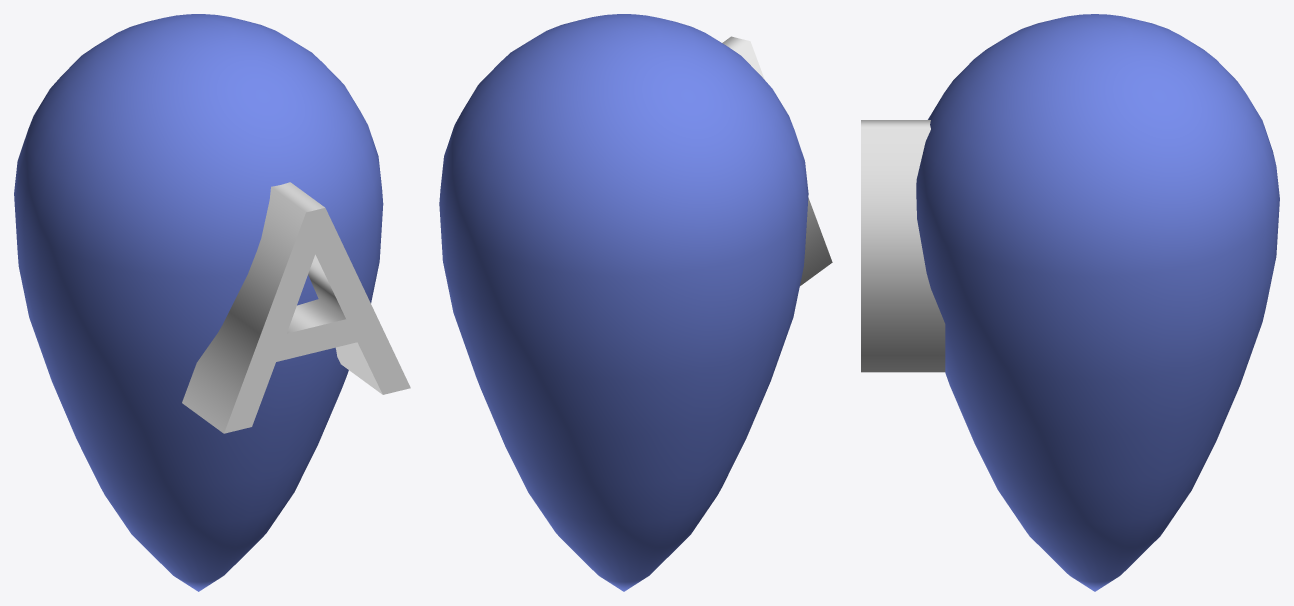
File: aEntrancePin.glb
3 views of the same model, side by side, from view 1: azimuth 30°, elevation 25°; view 2: azimuth 150°, elevation 25°; view 3: azimuth 270°, elevation 25° (orthographic).
Visible parts, largest first — view 1: pin, Text.001; view 2: pin, Text.001; view 3: pin, Text.001.
Part boxes in pixels (<box>): pin: <box>14,14,383,591</box>; Text.001: <box>182,182,410,433</box>; pin: <box>439,14,808,591</box>; Text.001: <box>722,36,832,285</box>; pin: <box>916,14,1279,591</box>; Text.001: <box>861,120,945,372</box>.
Bounding box in the file's own units: 0.2435 × 0.4072 × 0.2757.
